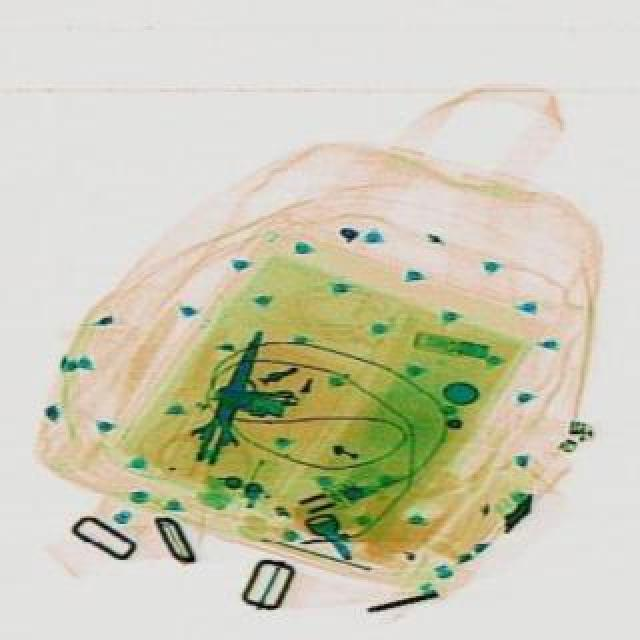knife: (176, 318, 284, 470)
